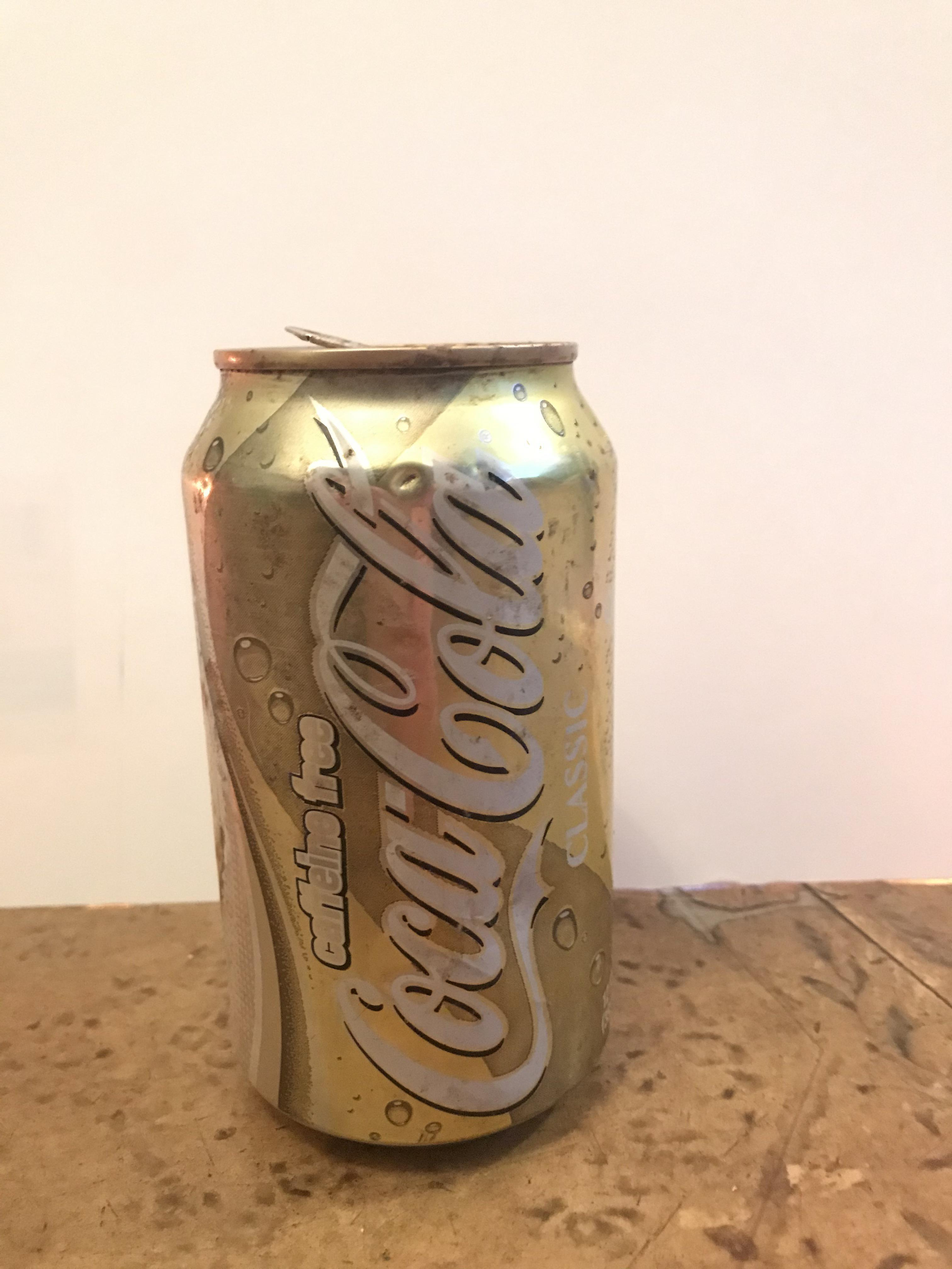tin can: (179, 330, 619, 1152)
